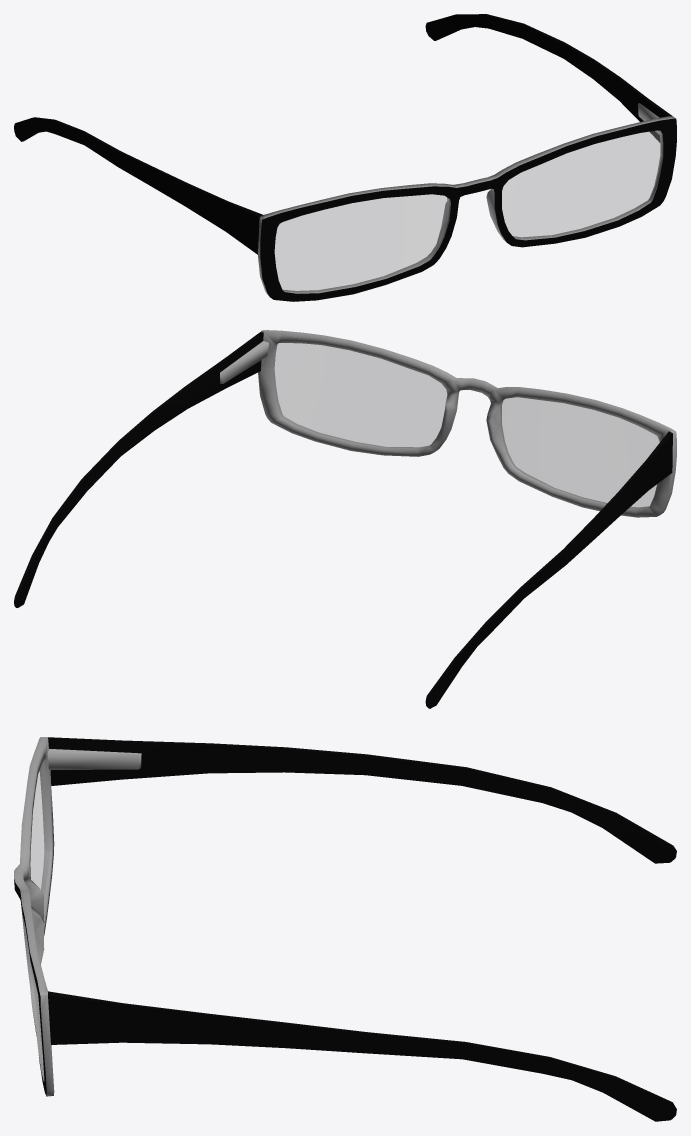
File: glasses_black_white.dae
3 renders of one model, top to bottom at view 1: azimuth 30°, elevation 25°; view 2: azimuth 150°, elevation 25°; view 3: azimuth 270°, elevation 25°, orthographic. The views are drawn at different scales.
Parts seen in each view (by area): view 1: polySurface3, pCube7; view 2: polySurface3, pCube7; view 3: pCube7, polySurface3.
Part boxes in pixels (<box>): polySurface3: <box>275,130,661,291</box>; pCube7: <box>14,14,676,301</box>; polySurface3: <box>273,343,659,507</box>; pCube7: <box>14,330,676,708</box>; pCube7: <box>14,737,676,1121</box>; polySurface3: <box>30,760,49,1052</box>.
Bounding box in the file's own units: 19.5 × 4.38 × 19.53.
